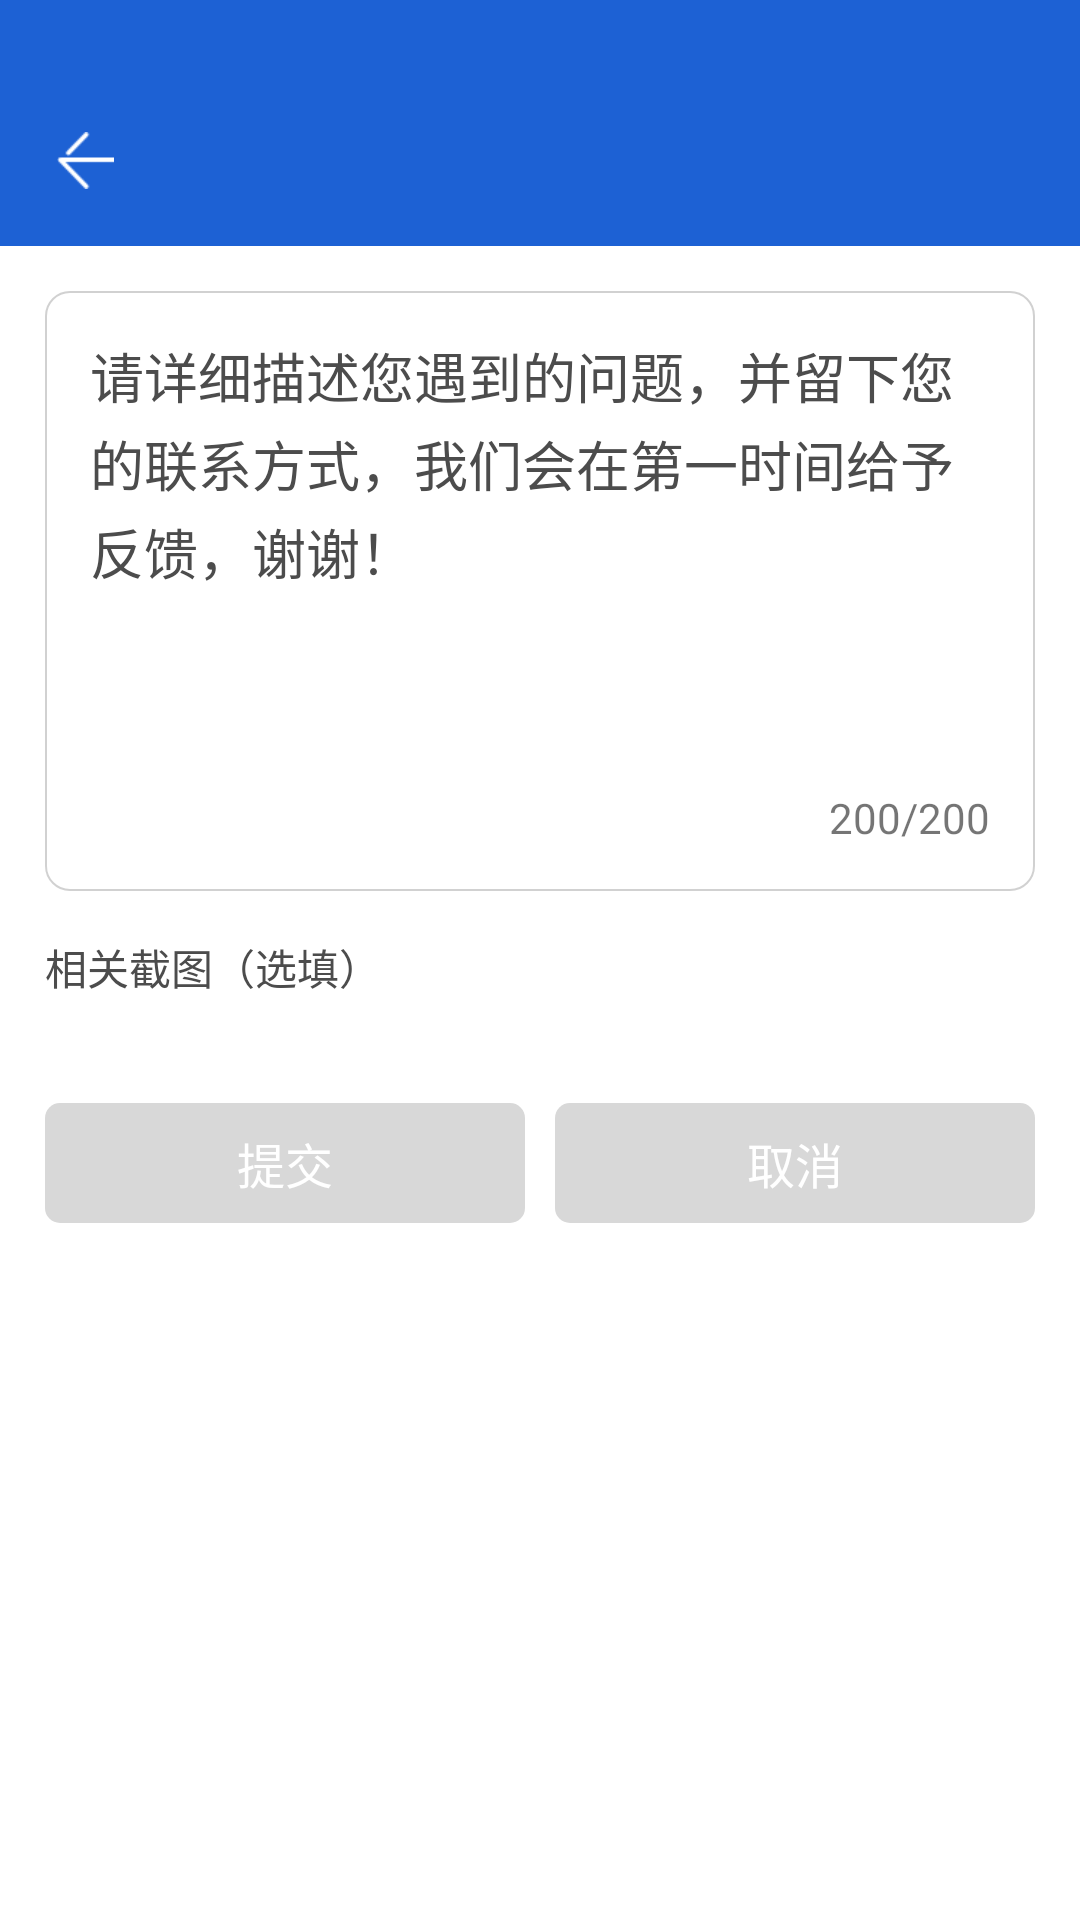

Named icons in this screenshot (1080px×1920px) and their bounding boxes, box(x1, y1, x2, y2):
back: box(57, 132, 114, 189)
